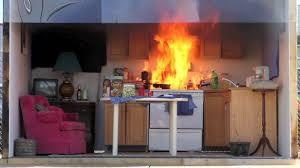fire: (143, 21, 209, 89)
